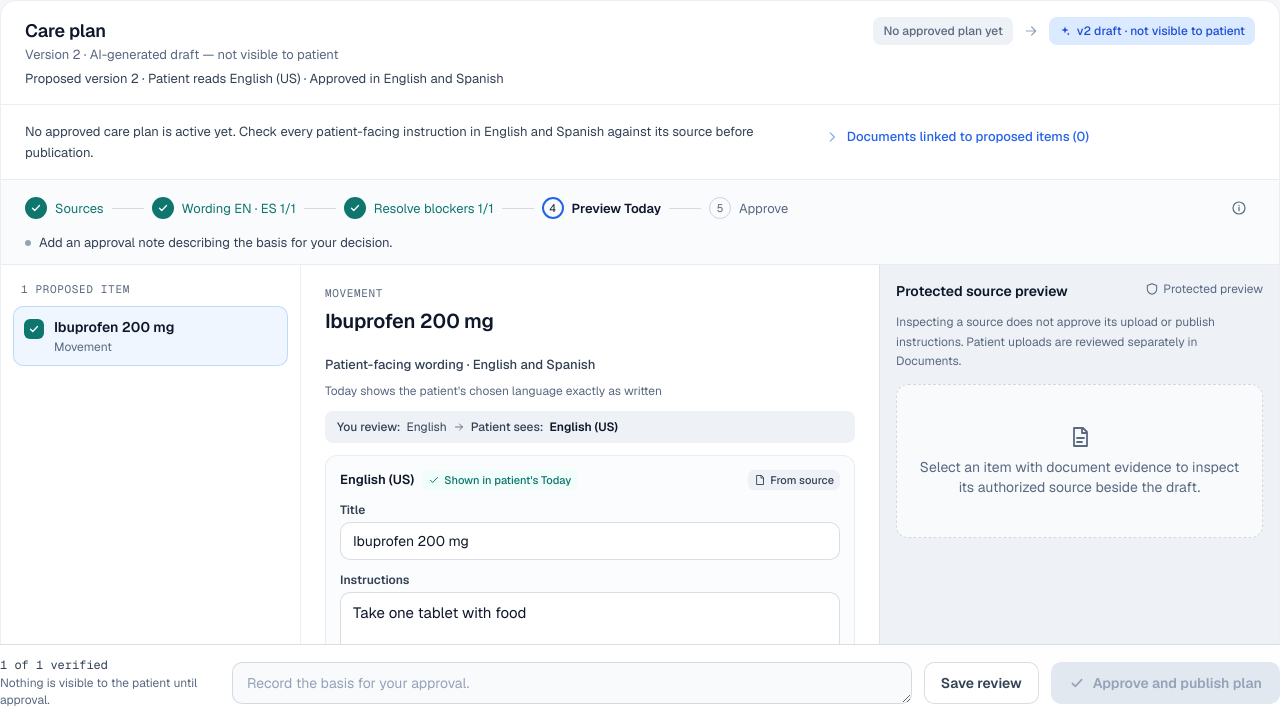
Test: cross-plan conflicts in the care-plan draft review › explains each kind in words
Type "Reviewed against sources" into the text box with placeholder "Record the basis for your approval." at x=572, y=682, box top-left (232, 662), bottom-right (912, 704)
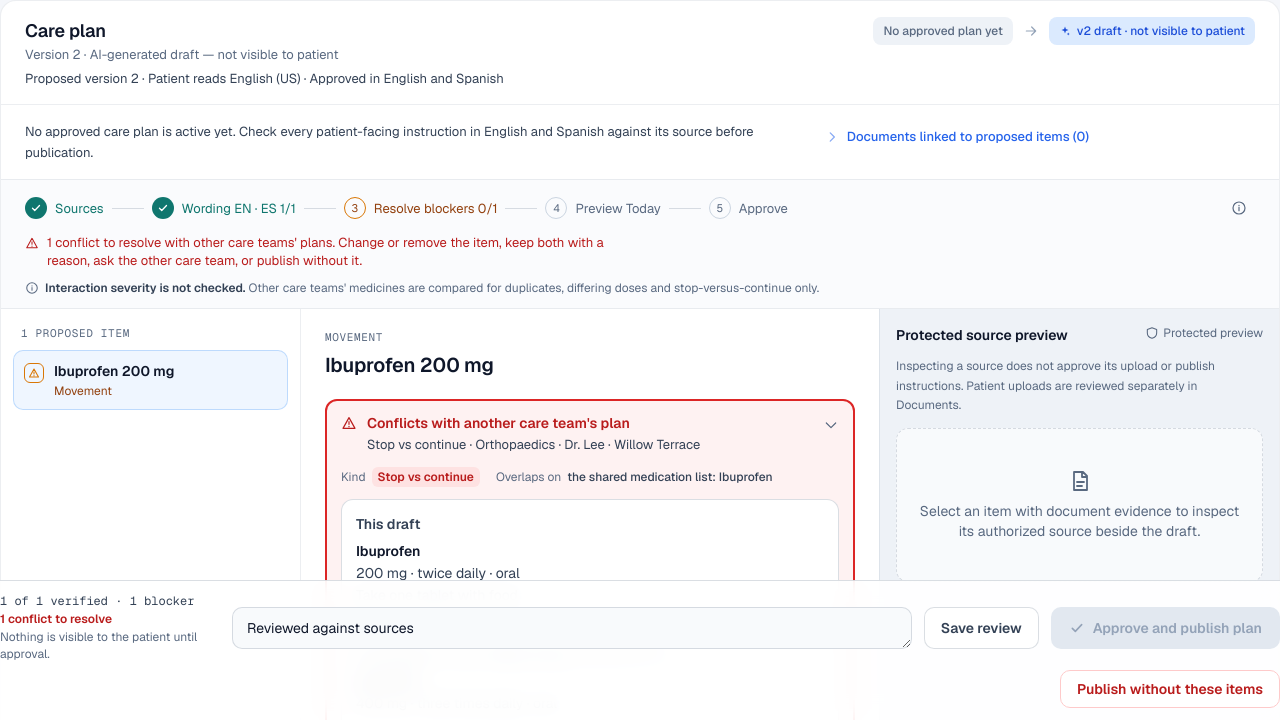
Expected: the text "Stop vs continue · Orthopaedics · Dr. Lee · Willow Terrace" is shown, top-left (367, 436), bottom-right (700, 453)
